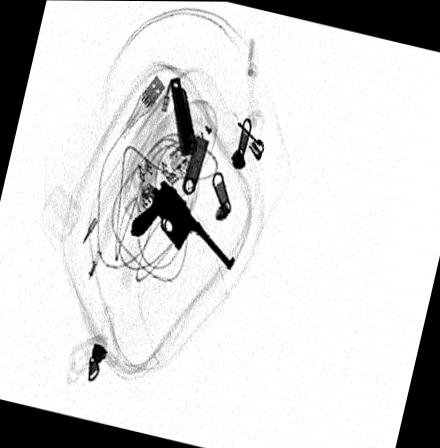Gun: (130, 177, 236, 269)
